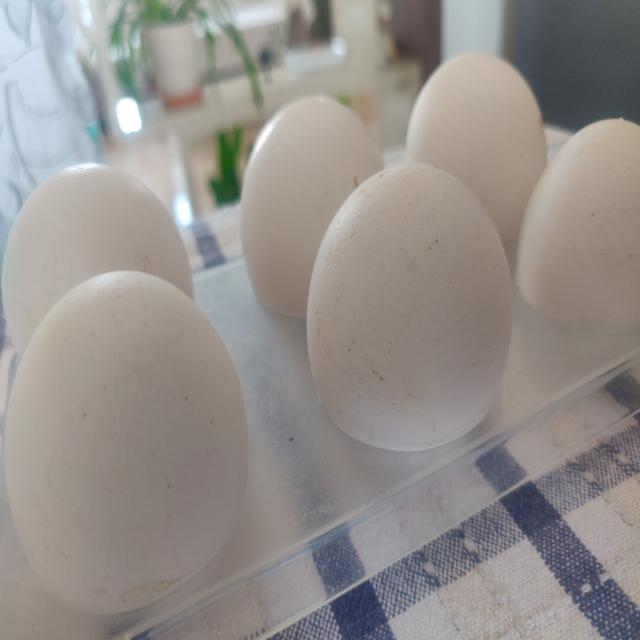Egg: (0, 262, 253, 629), (304, 163, 516, 455), (1, 165, 195, 365), (239, 96, 384, 321), (403, 52, 549, 267), (514, 118, 640, 349)
